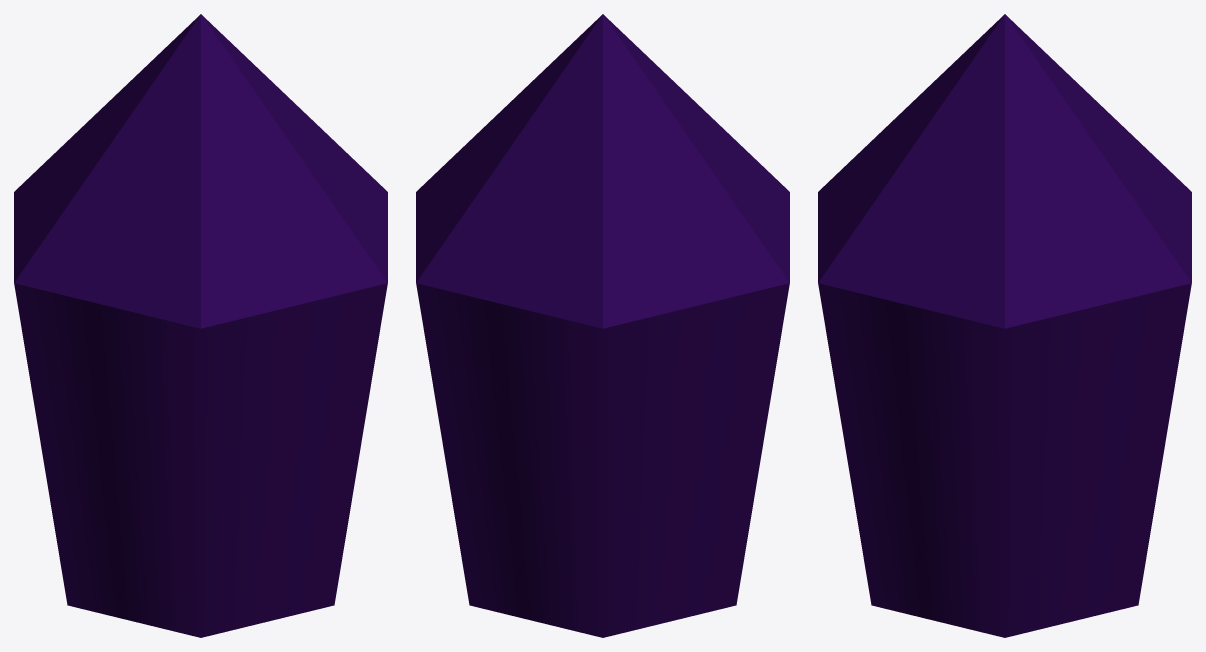
The model's file is fractusCrystalShield.FBX.
3 views of the same model, side by side, from view 1: azimuth 30°, elevation 25°; view 2: azimuth 150°, elevation 25°; view 3: azimuth 270°, elevation 25° (orthographic).
Parts seen in each view (by area): view 1: Cone001; view 2: Cone001; view 3: Cone001.
Boxes of the visible parts, x1,y1,x2,y2 form: Cone001: [14, 14, 387, 637]; Cone001: [416, 14, 789, 637]; Cone001: [818, 14, 1191, 637].
Bounding box in the file's own units: 280 × 400 × 242.
1 material, 1 textured.
